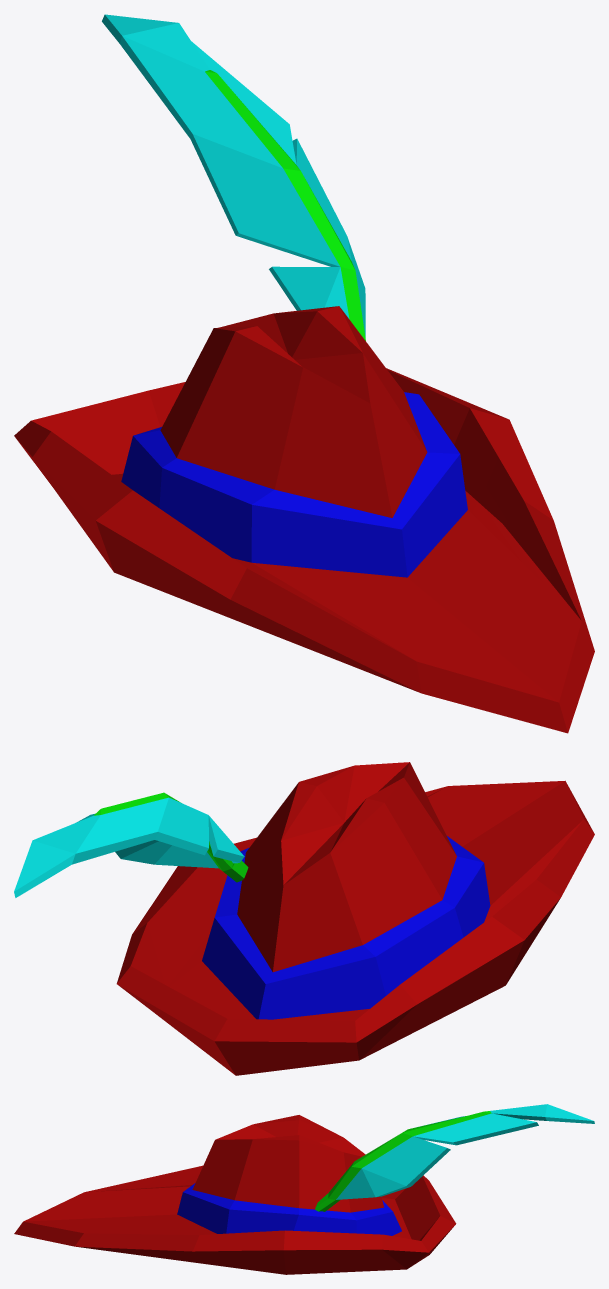
Rendered from Chr_HeadCoverings_BaseHair_Static_10.fbx.
3 views of the same model, one above another, from view 1: azimuth 30°, elevation 25°; view 2: azimuth 150°, elevation 25°; view 3: azimuth 270°, elevation 25° (orthographic). The views are drawn at different scales.
Visible parts, largest first — view 1: Chr_HeadCoverings_Base_Hair_10; view 2: Chr_HeadCoverings_Base_Hair_10; view 3: Chr_HeadCoverings_Base_Hair_10.
Boxes of the visible parts, left/top/right/bottom form: Chr_HeadCoverings_Base_Hair_10: left=14, top=14, right=594, bottom=733; Chr_HeadCoverings_Base_Hair_10: left=14, top=762, right=594, bottom=1075; Chr_HeadCoverings_Base_Hair_10: left=14, top=1104, right=594, bottom=1274.
Size of the model in its own units: 41.58 by 32.3 by 99.47.
